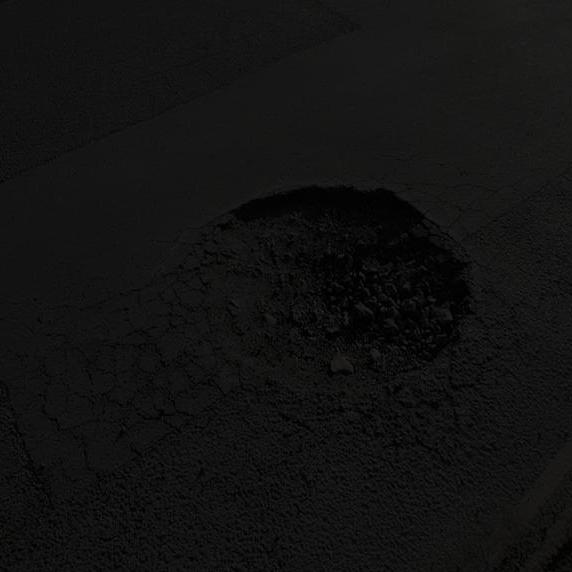pothole: (145, 142, 500, 422)
